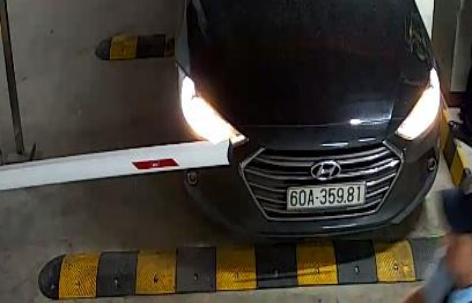plate: (283, 178, 374, 215)
